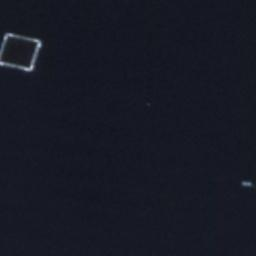square_solid: (1, 29, 45, 76)
